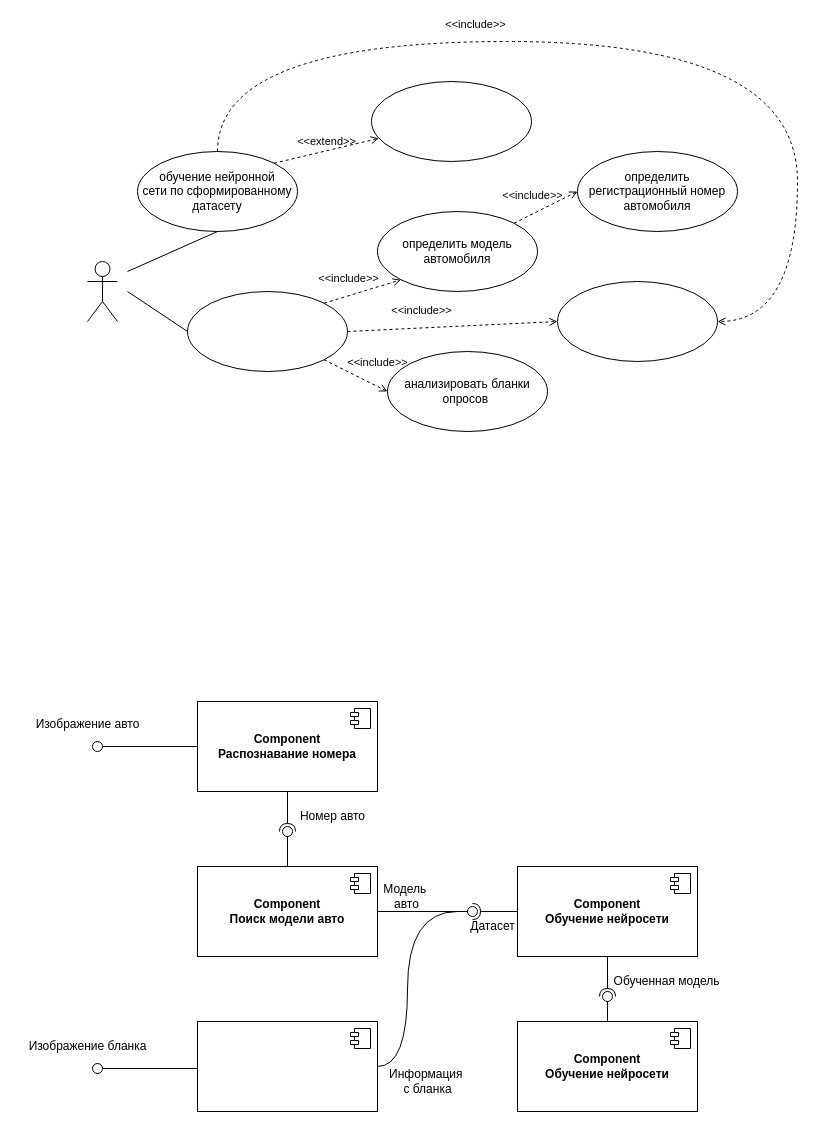
The diagram is 815 pixels wide and 1140 high, and some of its shapes have lost their labels. Here are the shapes that lost their labels. From the top down, the centre of each, then its label:
At (x=451, y=121): "предсказывать интересы посетителей".
At (x=267, y=331): "сбор данных".
At (x=637, y=321): "формирование набора данных".
At (x=287, y=1066): "Component Анализ бланков".
